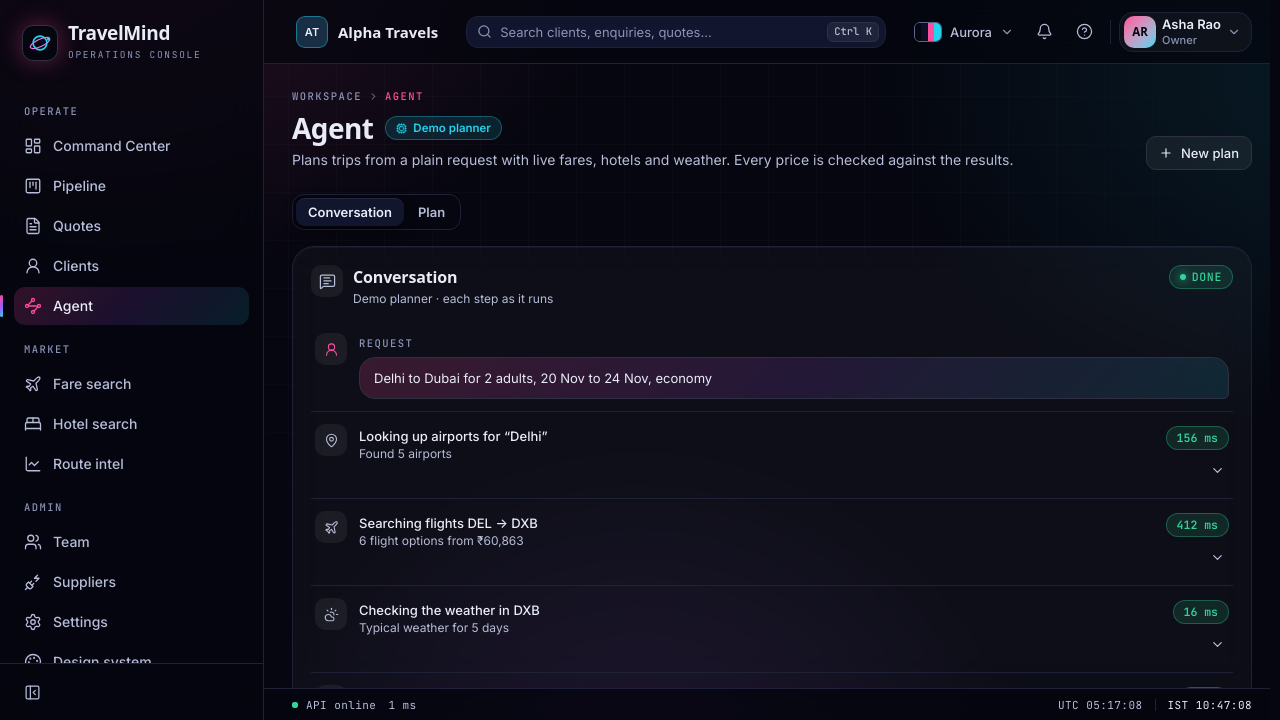
it: on a phone the columns stack and a switch moves between the conversation and the plan
expect the element named "Plan trace" is shown: met, box [311,321,1233,688]
expect the radio button labelled "Conversation" is checked: met, box [296,198,404,226]
Click the radio button labelled "Plan" at (432, 212), box [418,204,445,220]
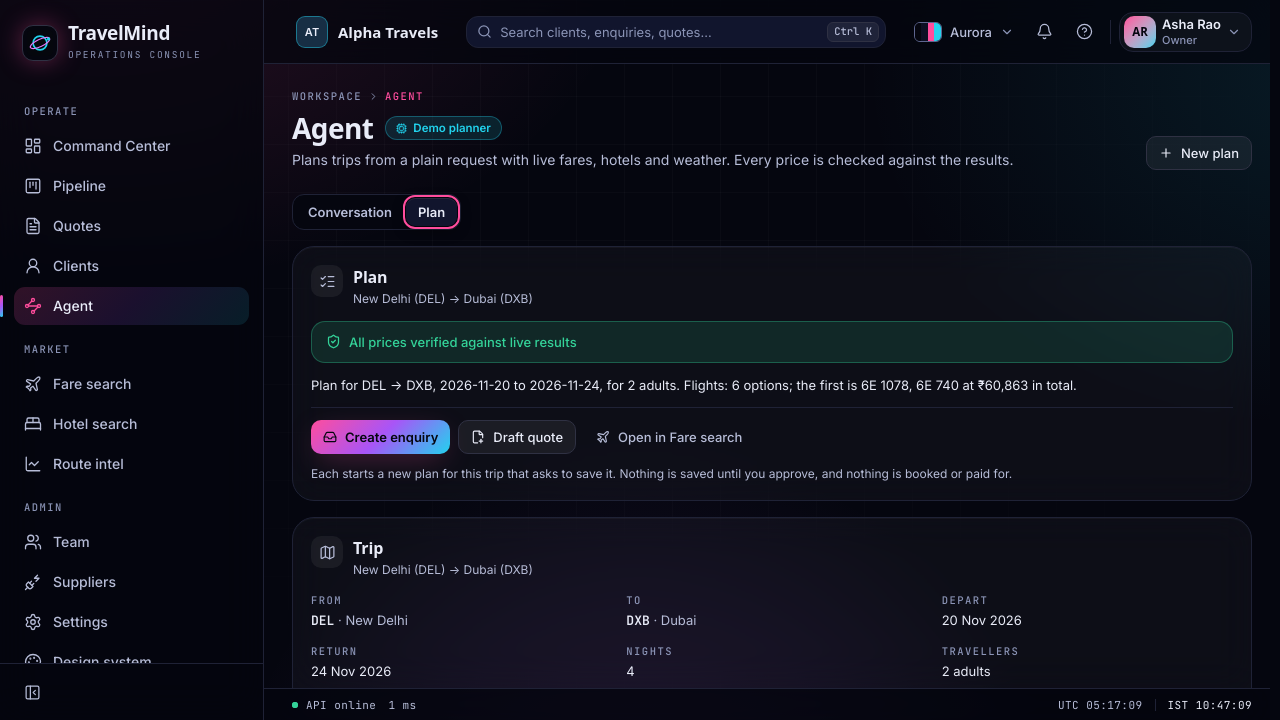
expect the text "All prices verified against live results" is shown: met, box [311,321,1233,363]
